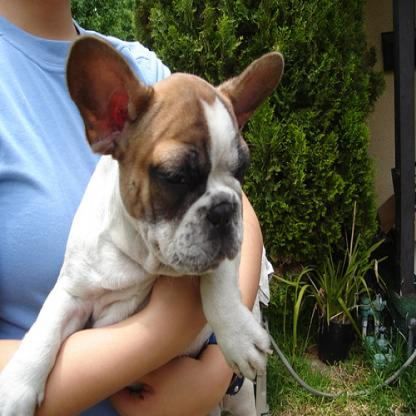French_bulldog: (0, 33, 285, 414)
